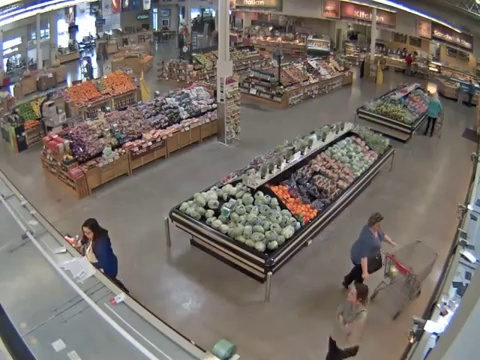face: (347, 287, 359, 303), (83, 226, 95, 238)
